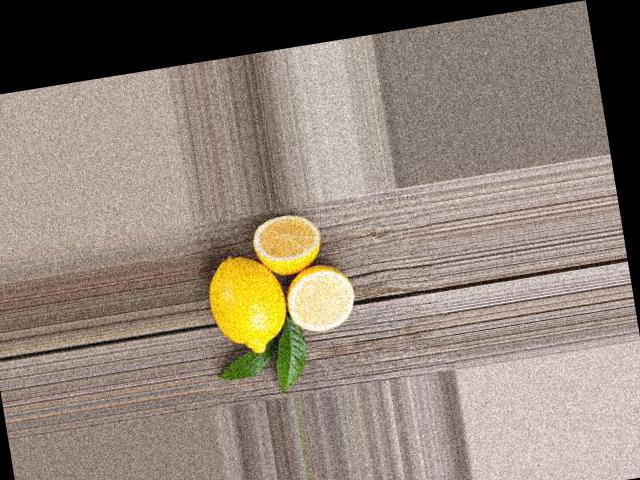lemon: (189, 233, 296, 367)
